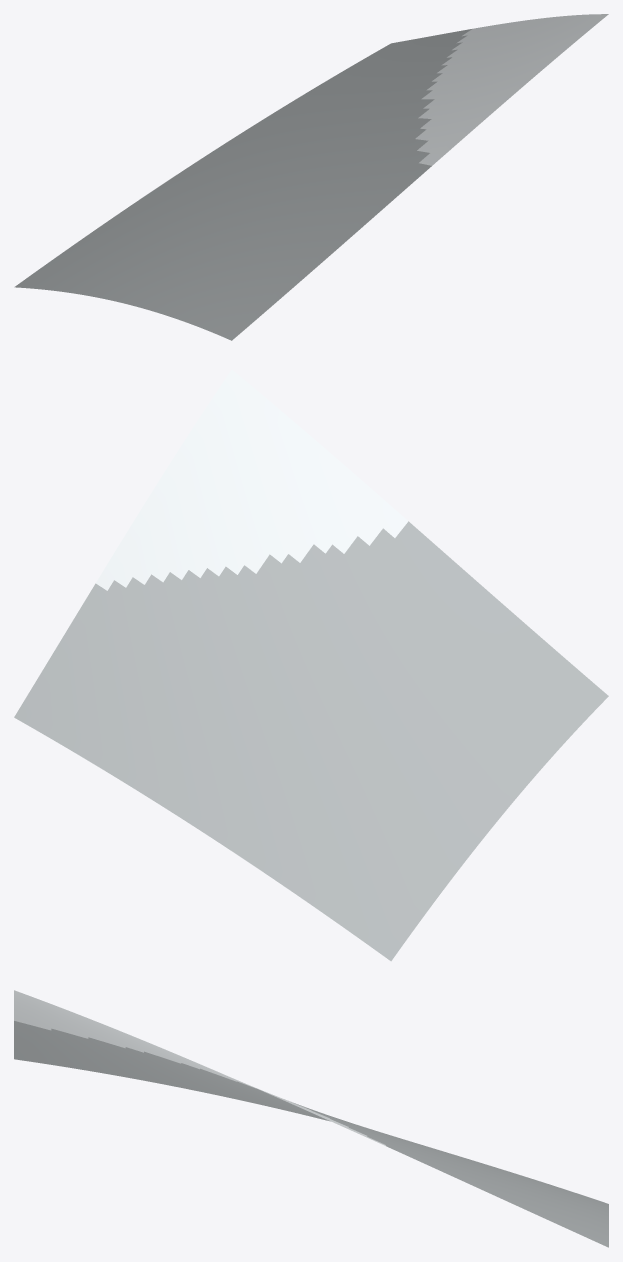
File: alpine-6-5.glb
3 renders of one model, top to bottom at view 1: azimuth 30°, elevation 25°; view 2: azimuth 150°, elevation 25°; view 3: azimuth 270°, elevation 25°, orthographic. The views are drawn at different scales.
Parts seen in each view (by area): view 1: alpine-6-5; view 2: alpine-6-5; view 3: alpine-6-5.
Part boxes in pixels (x1=…): alpine-6-5: x1=14, y1=14, x2=608, y2=340; alpine-6-5: x1=14, y1=369, x2=608, y2=961; alpine-6-5: x1=14, y1=990, x2=608, y2=1247.
Bounding box in the file's own units: 256 × 221 × 256.
2 materials, 2 textured.
